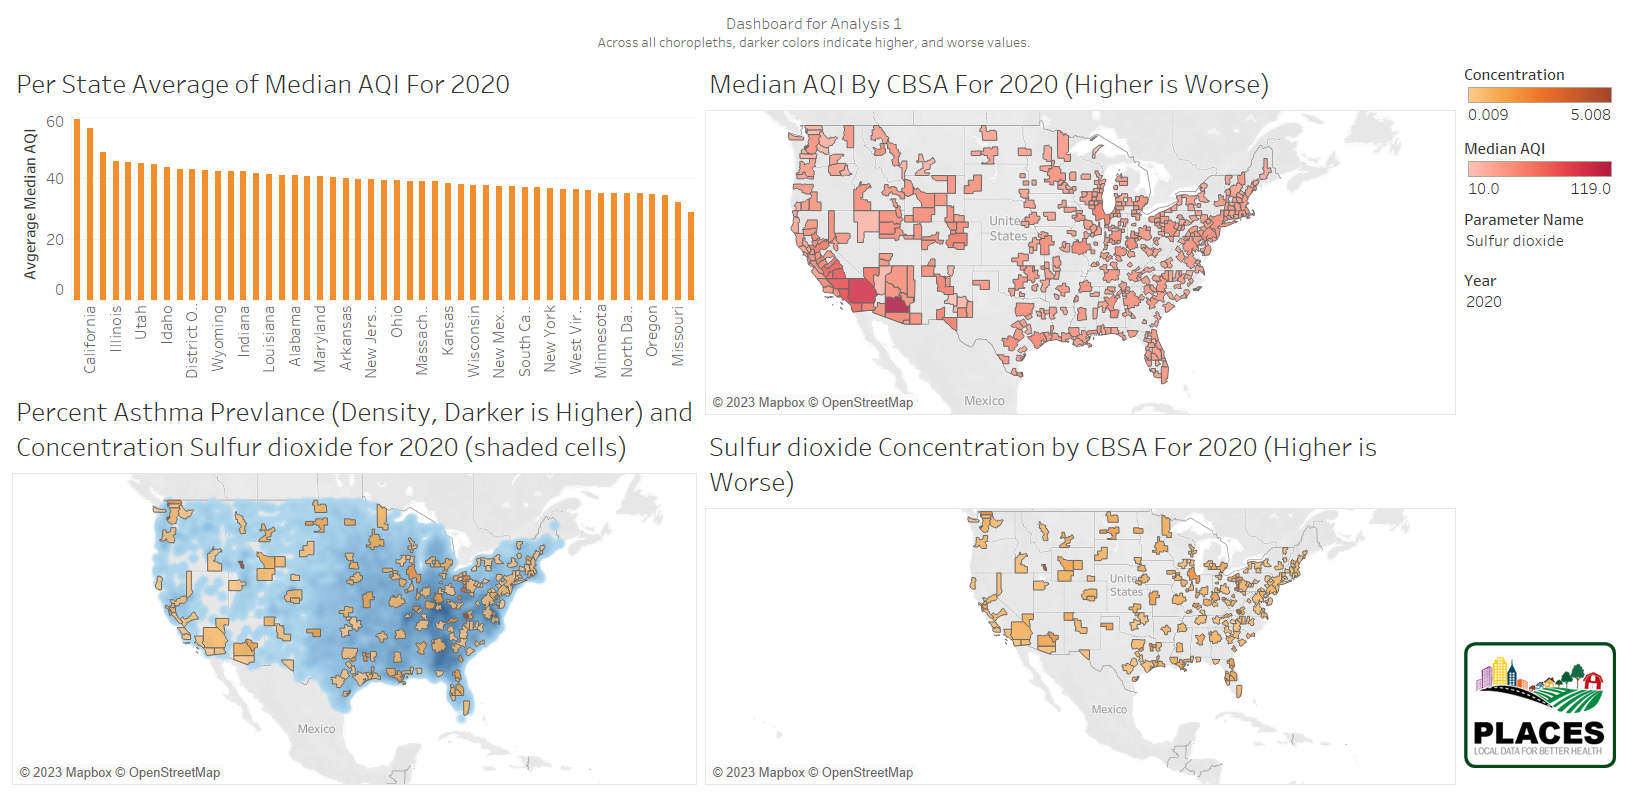

This screenshot's page, from the dashboard's own definition file:
{"tool":"tableau","page":{"name":"Dashboard 1","canvas":[1000,1000],"units":"permille","ordinal":0},"visuals":[{"type":"text","box":[4.9,10,990.2,60.1]},{"type":"worksheet","title":"Graphs1d","mark":"Bar","rows":["Median AQI"],"cols":["State Name"],"box":[4.9,70.2,425.6,412.1]},{"type":"worksheet","title":"Graphs1b","mark":"Automatic","box":[430.5,70.2,466.3,455.4]},{"type":"legend","title":"Graphs1a","param":"[federated.09rq5d61ltst6j1azmigp1od9ud8].[none:Arithmetic Mean:qk]","box":[896.8,70.2,98.3,91.6]},{"type":"legend","title":"Graphs1b","param":"[federated.09rq5d61ltst6j1azmigp1od9ud8].[none:Median AQI:qk]","box":[896.8,161.8,98.3,91.6]},{"type":"filter","title":"Graphs1a","param":"[federated.09rq5d61ltst6j1azmigp1od9ud8].[none:Parameter Name:nk]","box":[896.8,253.4,98.3,76.5]},{"type":"filter","title":"Graphs1b","param":"[federated.09rq5d61ltst6j1azmigp1od9ud8].[none:Year:ok]","box":[896.8,329.9,98.3,468]},{"type":"worksheet","title":"Graphs1a","mark":"Multipolygon","box":[4.9,482.3,425.6,507.7]},{"type":"worksheet","title":"Graphs1c","mark":"Automatic","box":[430.5,525.6,466.3,464.4]},{"type":"image","param":"../images/places-button-white-240x200-1.png","box":[896.8,797.9,98.3,192]}]}

Visuals, with their boxes on the dashboard's canvas, which has no fixed pixel size, in thousandths of its width and height (x1, y1, x2, y2). These are canvas units, not pixel positions in the 1628x797 screenshot, which may show the page scaled, cropped or inside an application window:
text: detection(5, 10, 995, 70)
"Graphs1d" worksheet (Bar marks): detection(5, 70, 430, 482)
"Graphs1b" worksheet: detection(430, 70, 897, 526)
"Graphs1a" legend: detection(897, 70, 995, 162)
"Graphs1b" legend: detection(897, 162, 995, 253)
"Graphs1a" filter: detection(897, 253, 995, 330)
"Graphs1b" filter: detection(897, 330, 995, 798)
"Graphs1a" worksheet (Multipolygon marks): detection(5, 482, 430, 990)
"Graphs1c" worksheet: detection(430, 526, 897, 990)
image: detection(897, 798, 995, 990)
